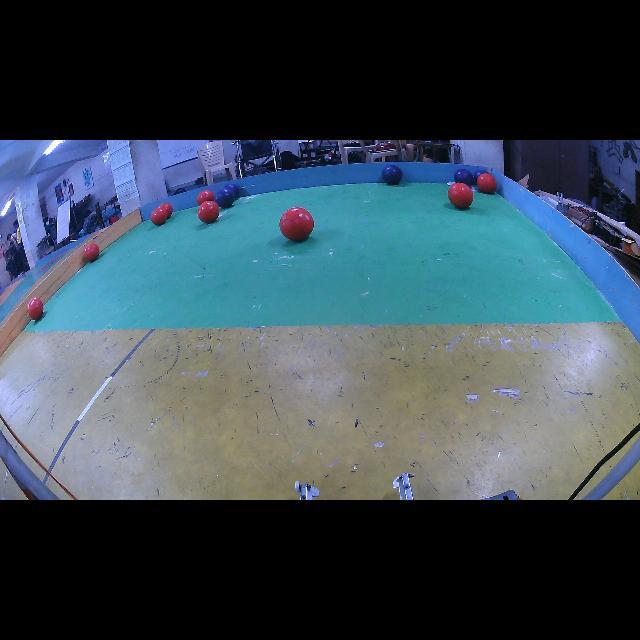P: (381, 165, 402, 185), (215, 189, 235, 209), (454, 169, 474, 186), (224, 182, 240, 199), (474, 170, 488, 184)
R: (280, 208, 314, 241), (448, 182, 474, 209), (198, 201, 220, 224), (476, 174, 498, 194), (28, 298, 44, 320), (151, 208, 168, 225), (85, 242, 100, 261), (196, 190, 215, 204), (159, 202, 172, 218)
